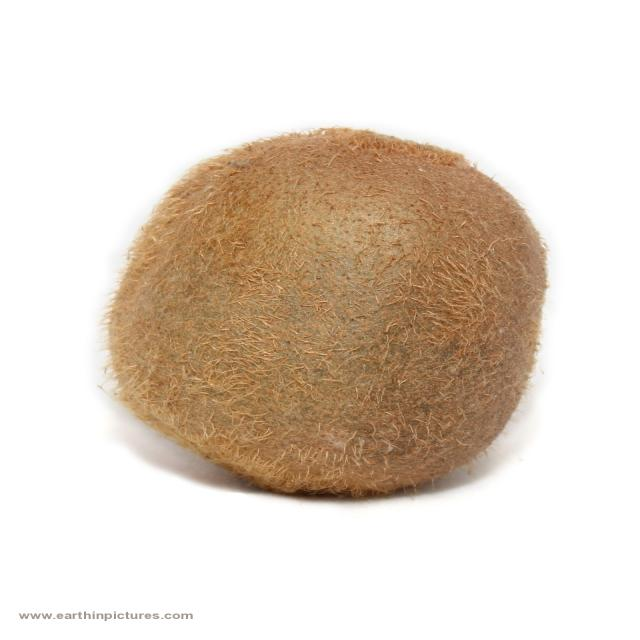kiwi: (107, 128, 547, 496)
